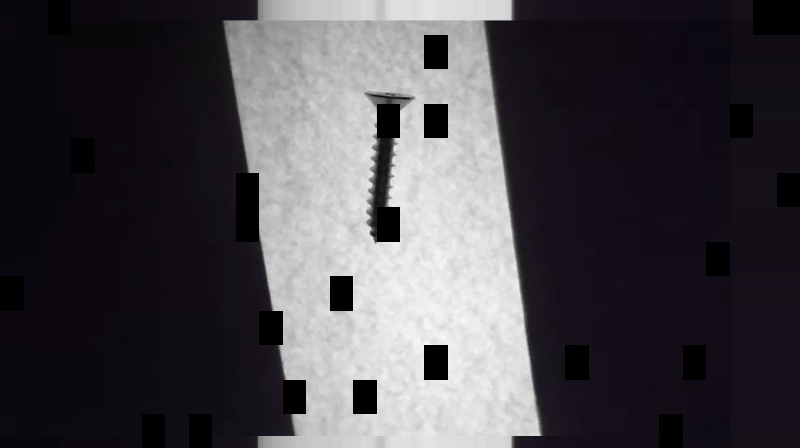S001: (356, 84, 419, 248)
